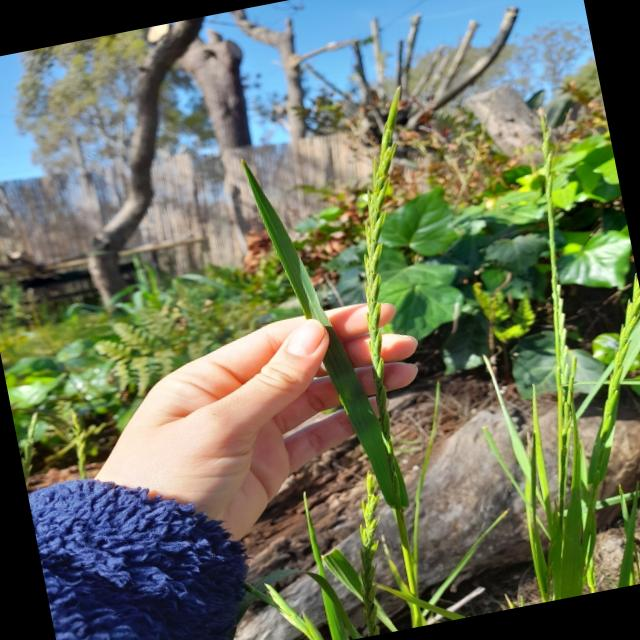Lolium: (264, 92, 504, 637), (454, 111, 640, 599)
